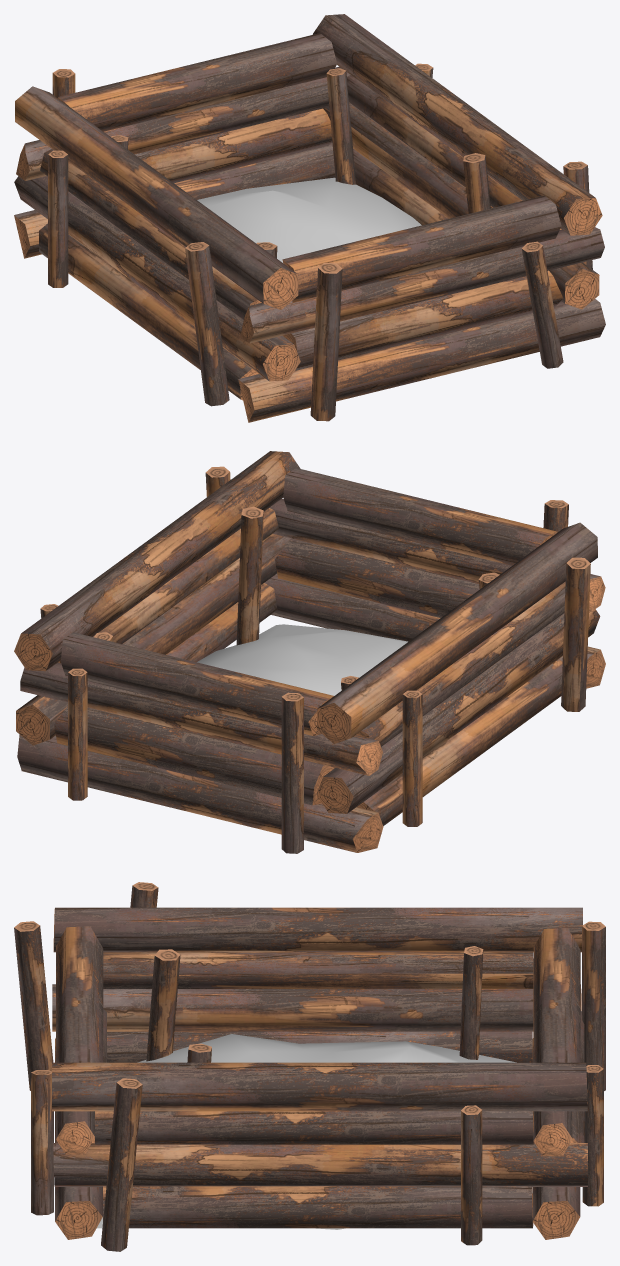
The model's file is compostBin02.FBX.
The picture shows the model from 3 angles, top to bottom: view 1: azimuth 30°, elevation 25°; view 2: azimuth 150°, elevation 25°; view 3: azimuth 270°, elevation 25°; orthographic projection. The views are drawn at different scales.
Visible parts, largest first — view 1: compostBin02, compostBin02_compost; view 2: compostBin02, compostBin02_compost; view 3: compostBin02, compostBin02_compost.
Part boxes in pixels (x1=…): compostBin02: x1=14, y1=14, x2=605, y2=422; compostBin02_compost: x1=197, y1=177, x2=421, y2=262; compostBin02: x1=14, y1=451, x2=605, y2=853; compostBin02_compost: x1=197, y1=624, x2=407, y2=695; compostBin02: x1=14, y1=882, x2=605, y2=1251; compostBin02_compost: x1=96, y1=1034, x2=532, y2=1229.
Bounding box in the file's own units: 225 × 87.94 × 274.
